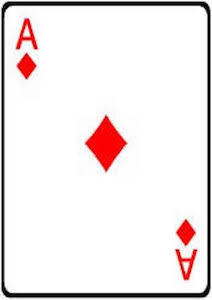AceOfDiamonds: (1, 1, 207, 295)
